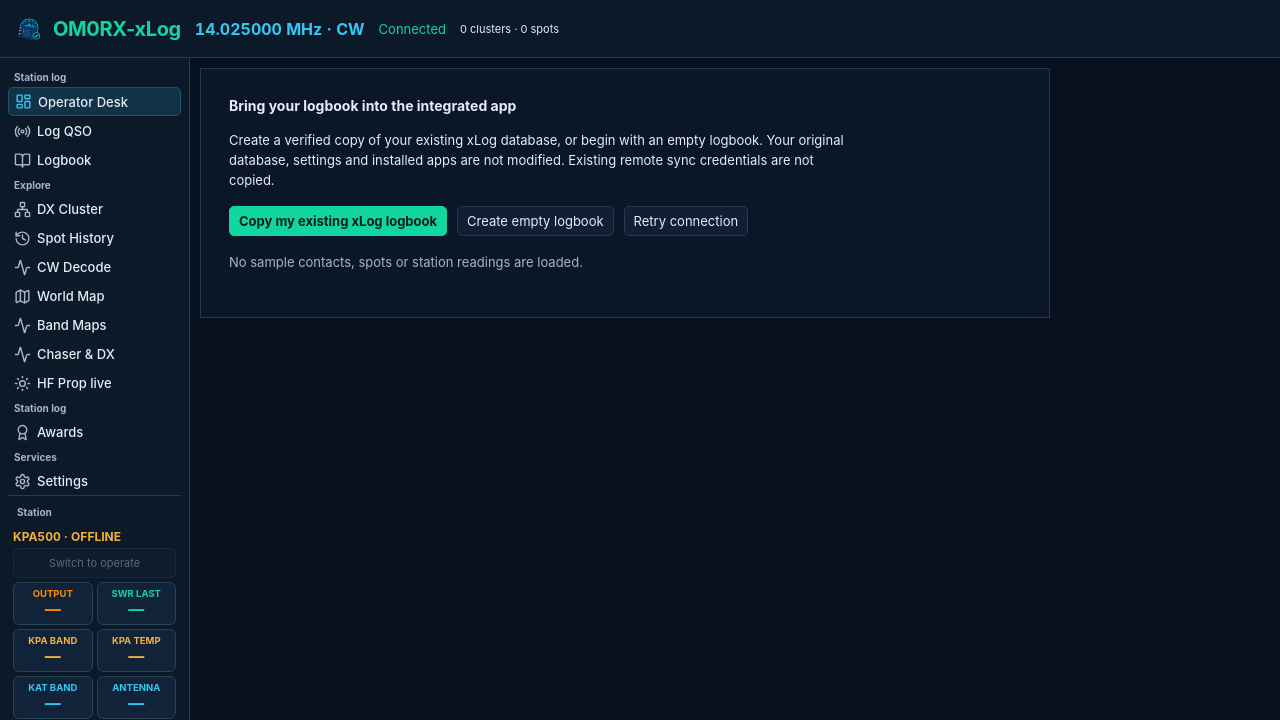
Test case: keeps recovery navigation visible when a Separate Windows layout outlives its workspace
The image size is (1280, 720).
Click the button "Settings" at (94, 481), box [8,467,181,495]
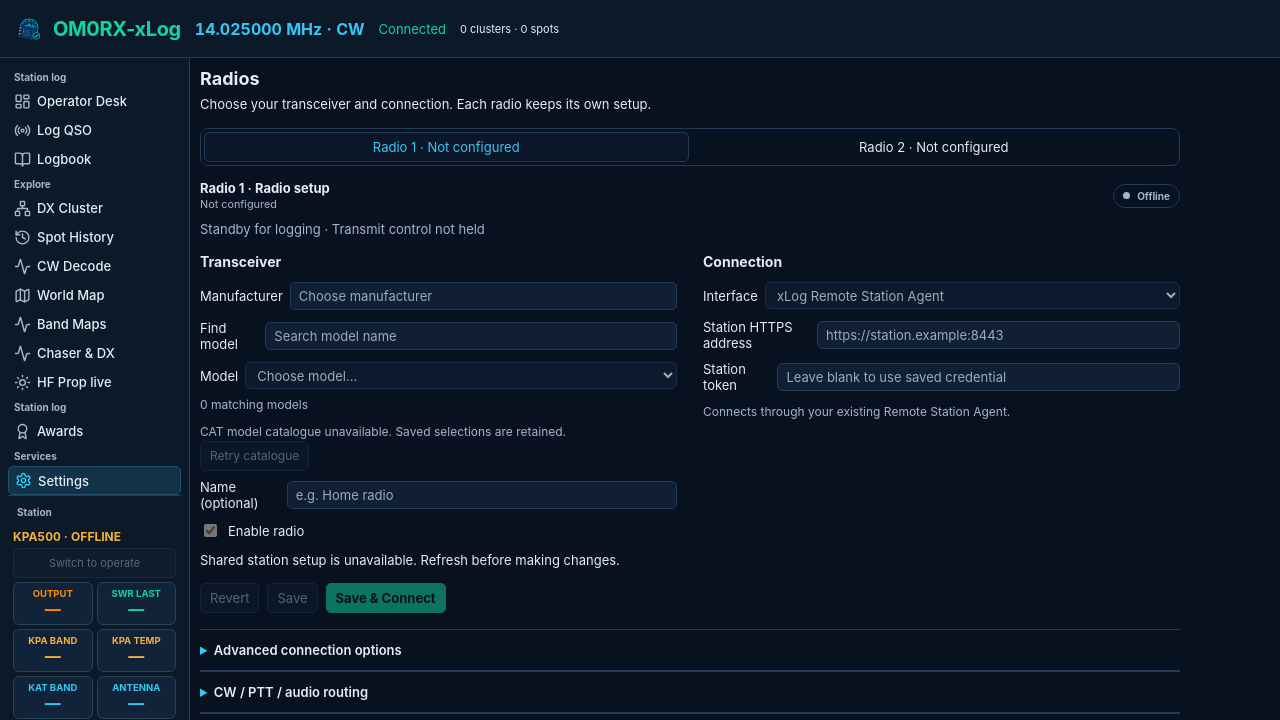
Now the element named "Settings recovery" is shown
